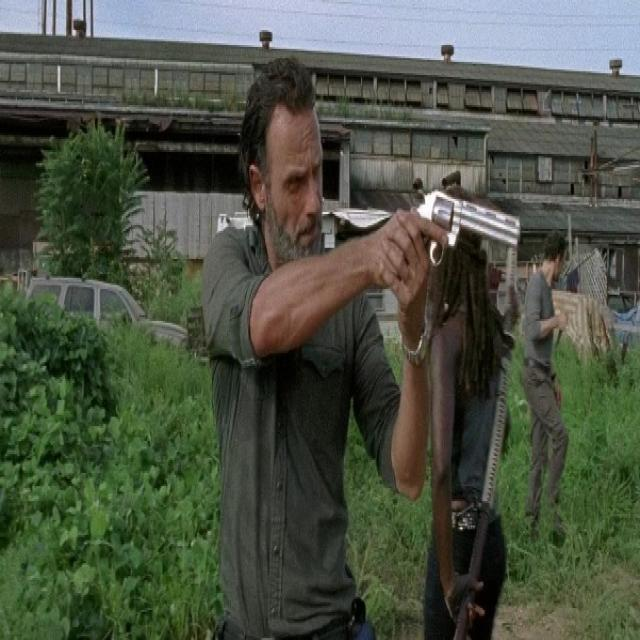weapons: (393, 177, 526, 322)
